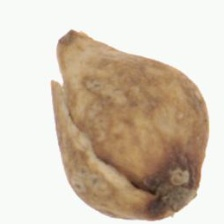L1: (150, 166, 201, 221), (49, 28, 78, 90)
L2: (49, 28, 210, 220)
